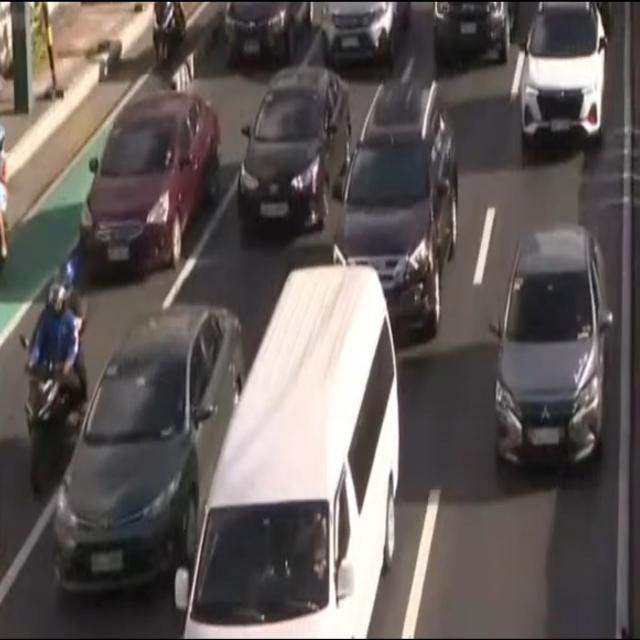Motorcycle: (22, 262, 86, 495), (143, 0, 187, 70)
SUV: (333, 83, 461, 338), (518, 0, 608, 156)
Sedan: (58, 305, 244, 602), (71, 85, 226, 271), (492, 234, 612, 452), (237, 65, 349, 242)
Van: (181, 263, 400, 640)
